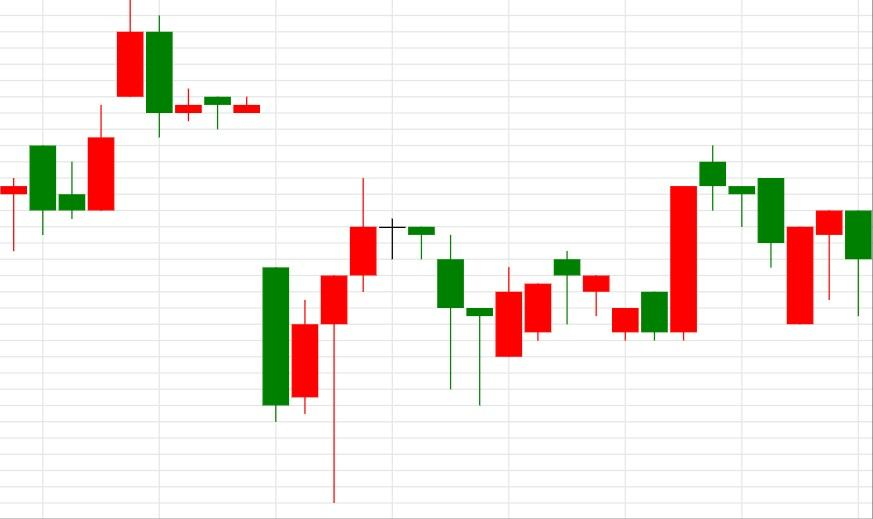bullish_engulfing_rise: (553, 185, 699, 341)
three_white_soldiers_rise: (117, 0, 378, 503)
